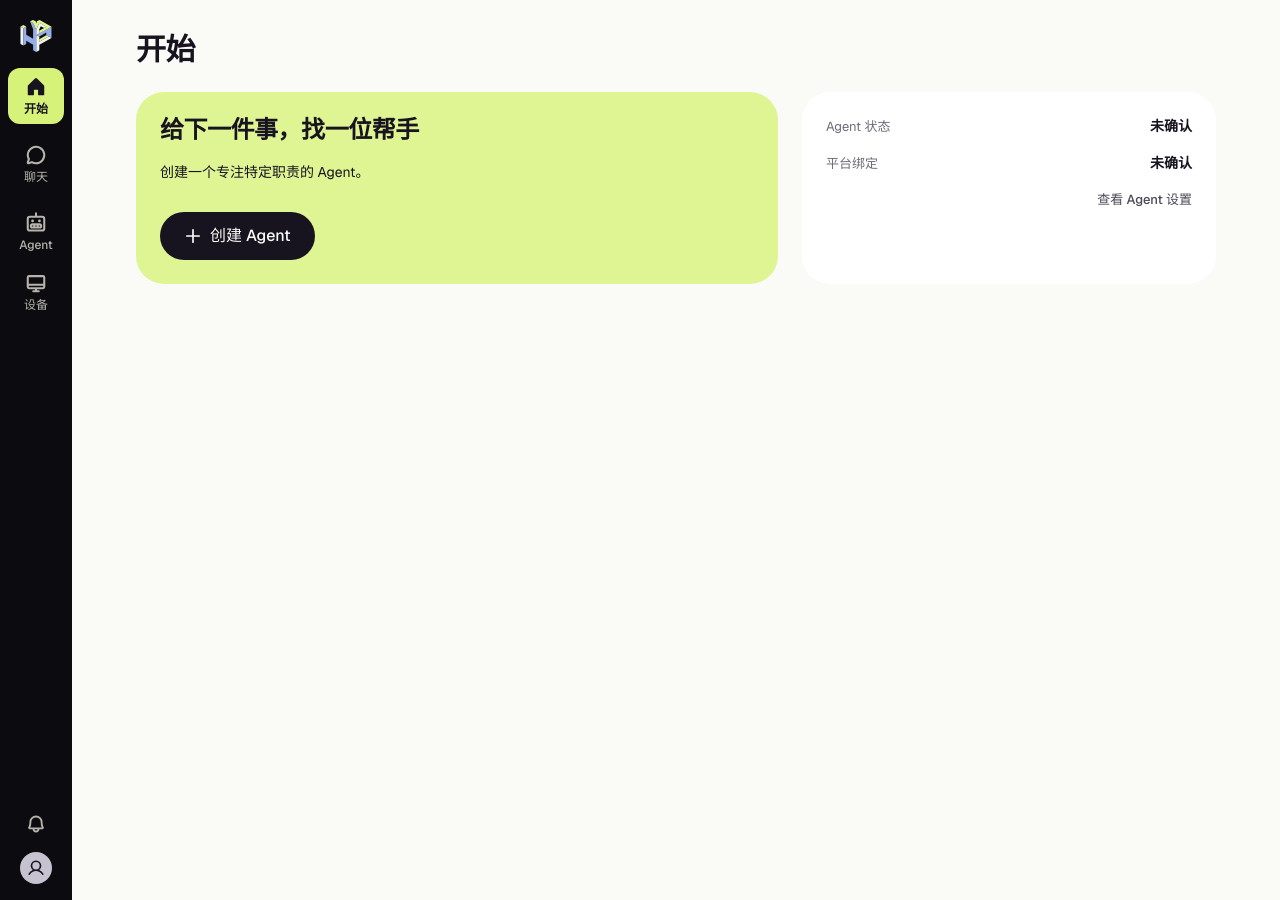
retains the requested start entry with a login prompt
Click the button "创建 Agent" at (237, 236), box [160,212,315,260]
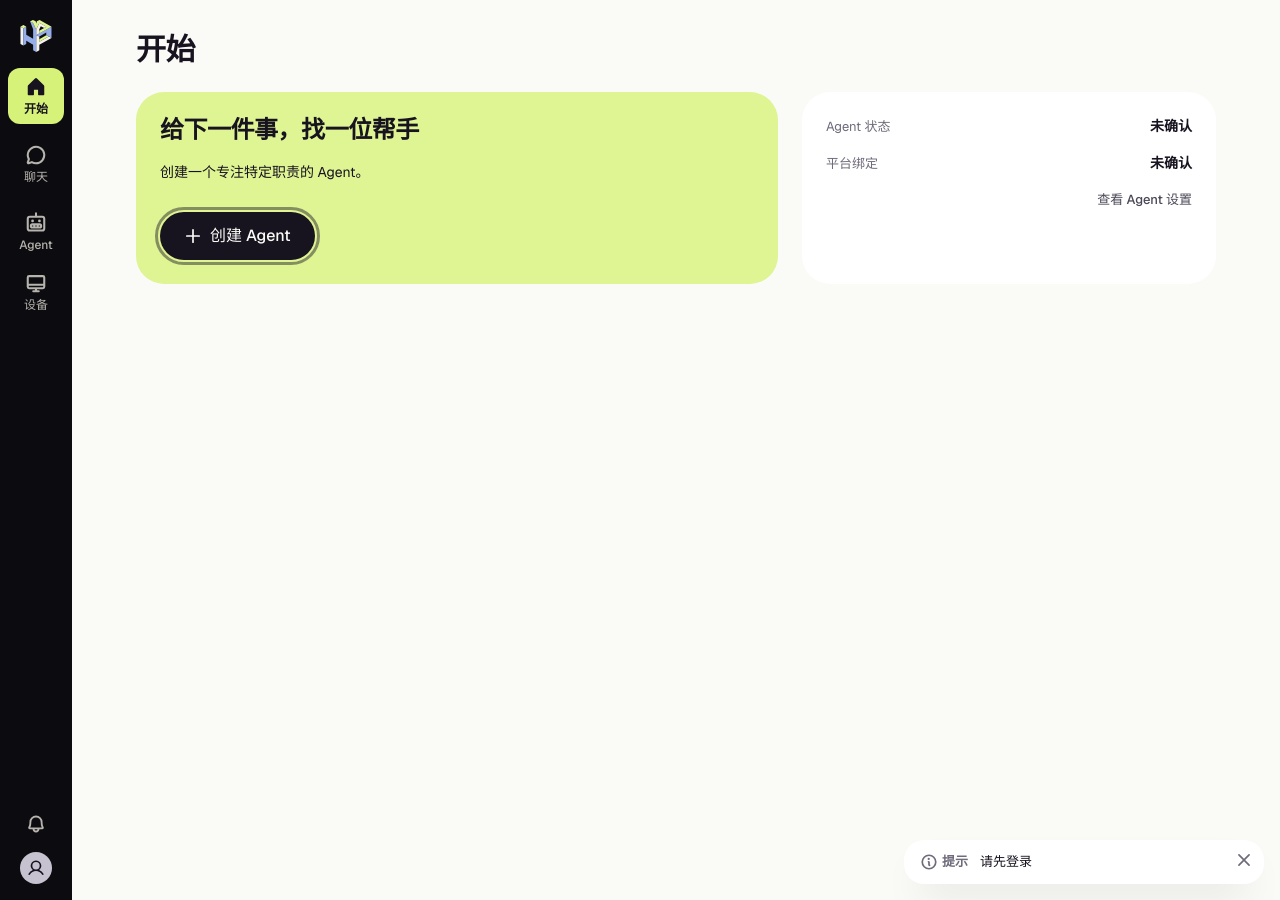
Check: the text "请先登录" is shown, box [980,853,1032,870]
